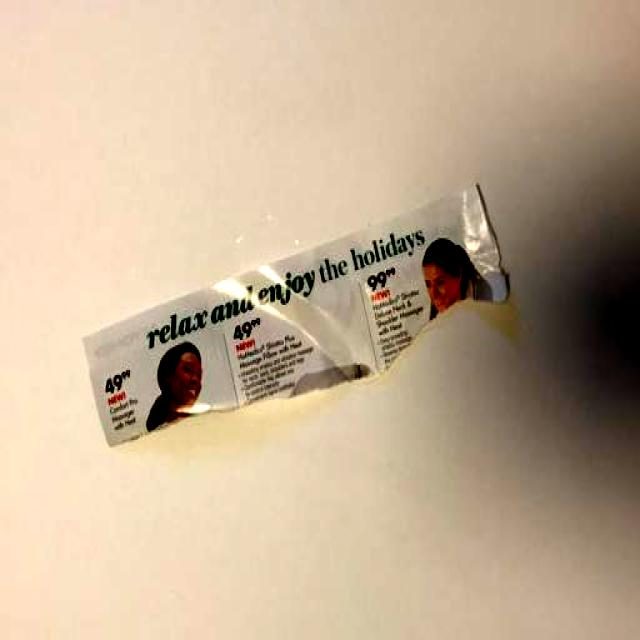paper: (73, 171, 520, 461)
